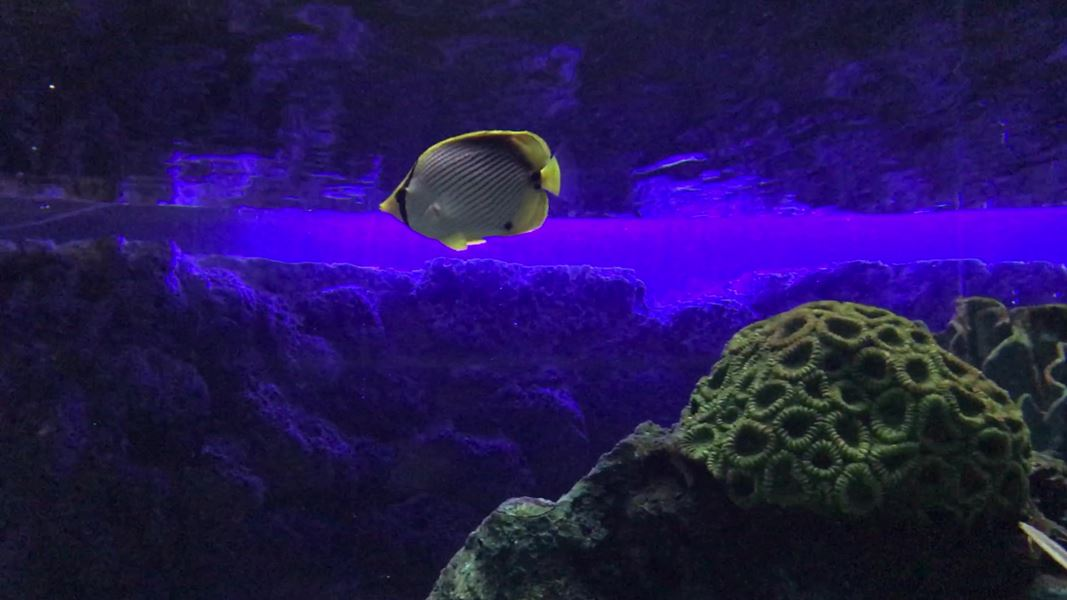Black-backed butterflyfish: (369, 120, 592, 261)
